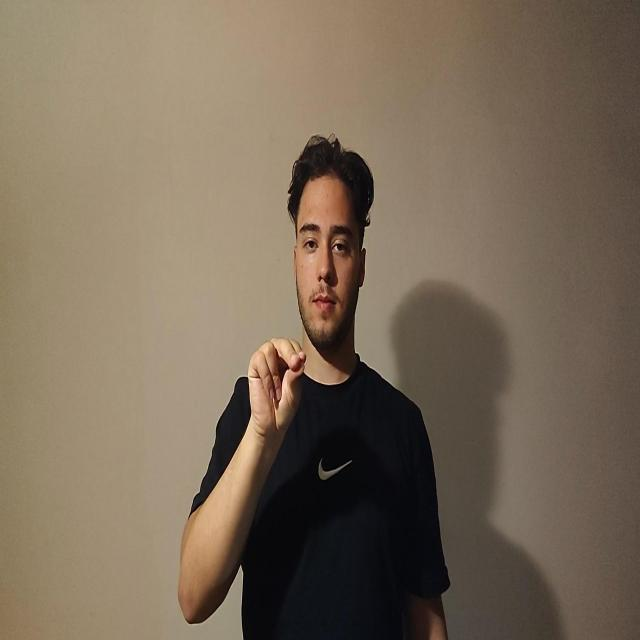no: (247, 336, 306, 441)
